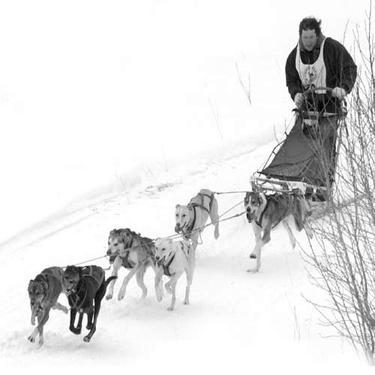dog: (231, 175, 316, 279), (47, 256, 125, 351), (93, 225, 165, 303), (19, 259, 76, 350), (148, 232, 208, 317), (162, 186, 227, 252), (55, 255, 121, 314)
